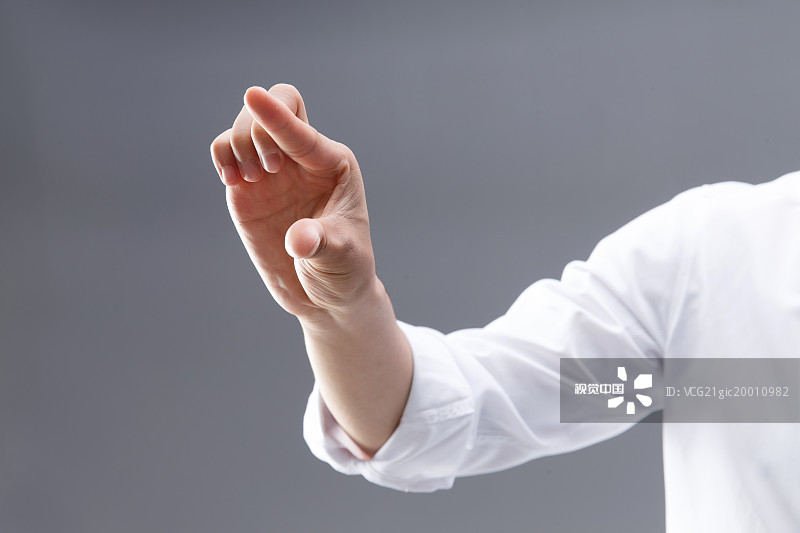no-phone: (192, 70, 406, 325)
